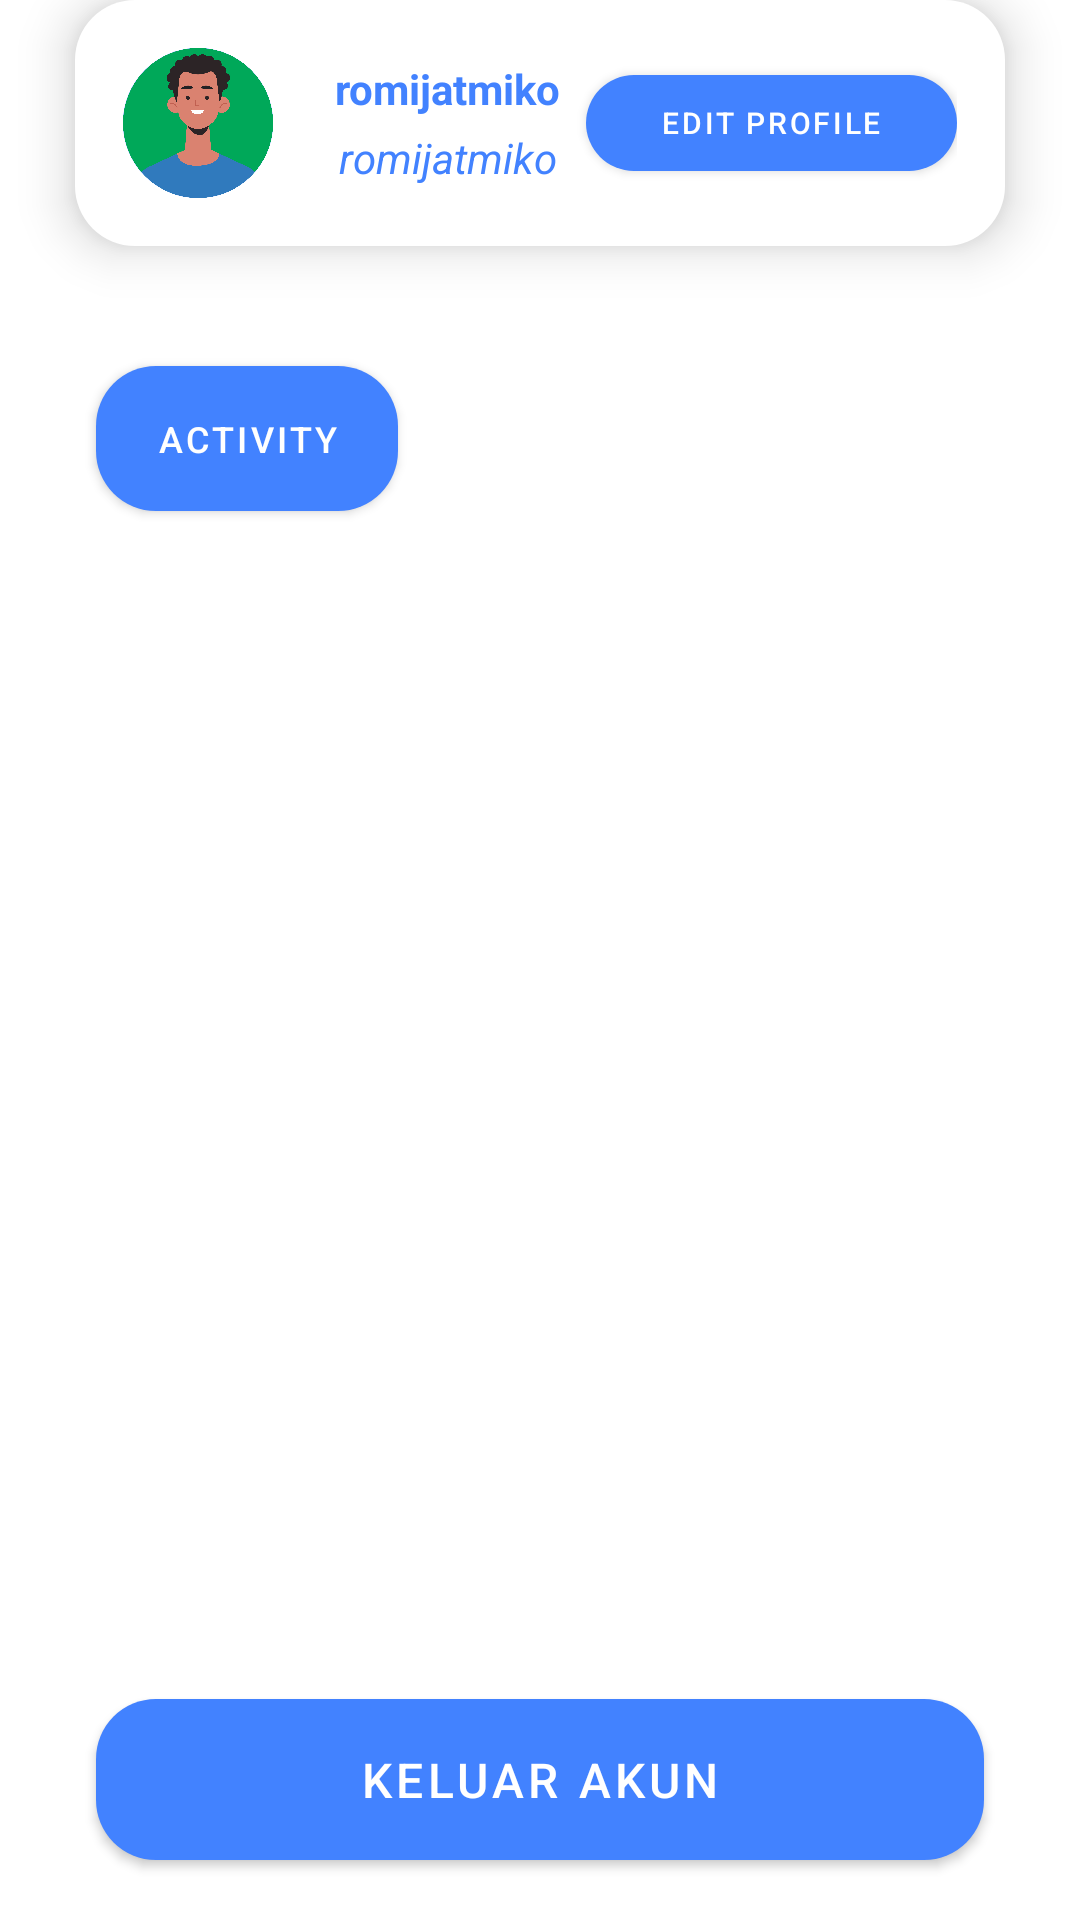

Where icons sit on this 1080w x 1920h app screen, as bbox=(x1, y1, x2, y2):
profile: bbox=(123, 48, 273, 198)
